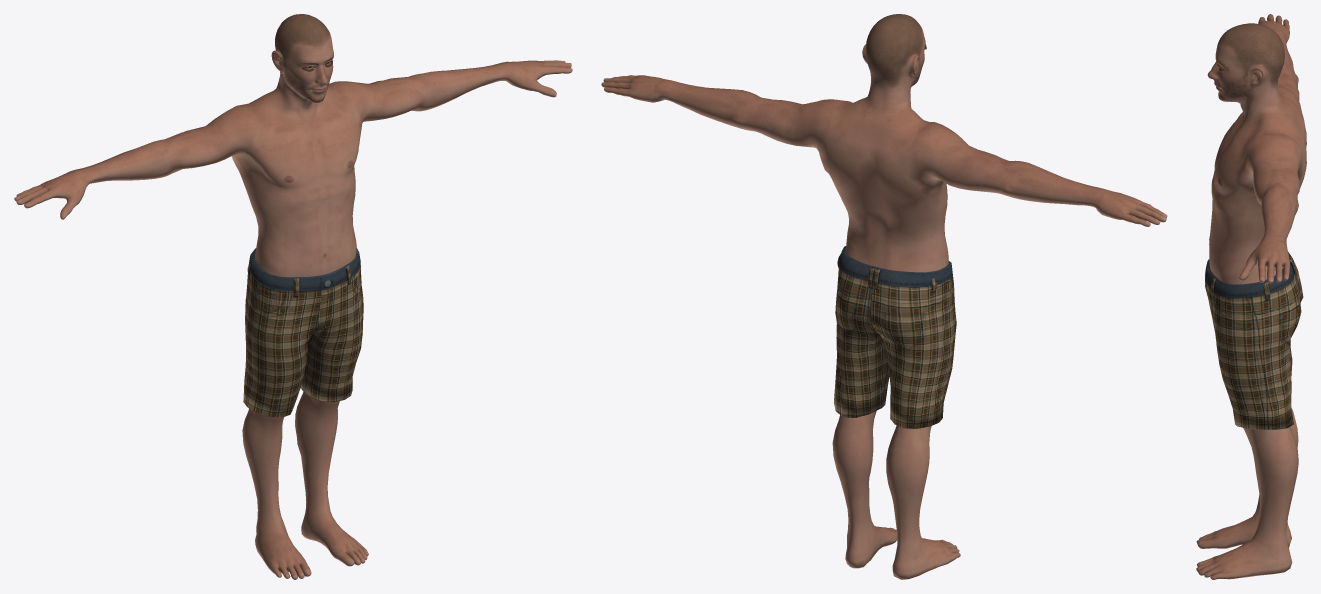
Rendered from chadTest.obj.
The picture shows the model from 3 angles, left to right: view 1: azimuth 30°, elevation 25°; view 2: azimuth 150°, elevation 25°; view 3: azimuth 270°, elevation 25°; orthographic projection.
Parts seen in each view (by area): view 1: Body, Bottoms; view 2: Body, Bottoms; view 3: Body, Bottoms.
Part boxes in pixels (<box>): Body: <box>14,14,572,579</box>; Bottoms: <box>243,248,363,417</box>; Body: <box>601,14,1167,579</box>; Bottoms: <box>834,246,956,428</box>; Body: <box>1196,14,1306,579</box>; Bottoms: <box>1205,252,1303,429</box>.
Bounding box in the file's own units: 194 × 179 × 33.71.
Materials: 2 (2 with a texture image).
